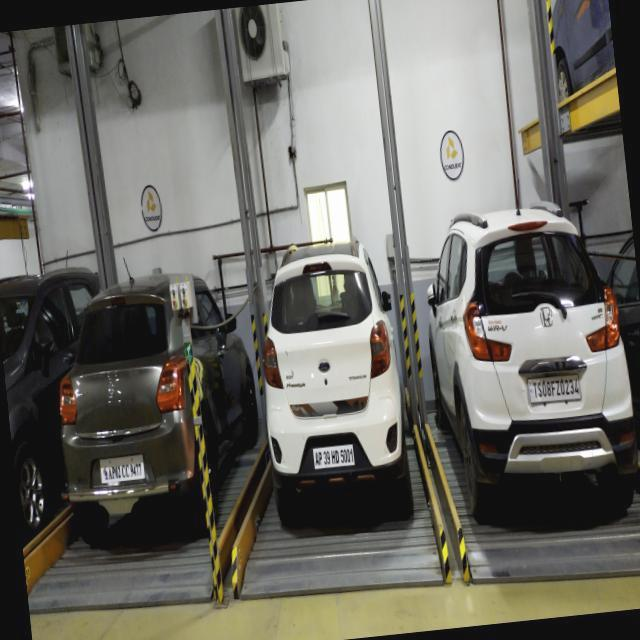car: (451, 287, 640, 543), (270, 296, 414, 554), (67, 319, 208, 573)
